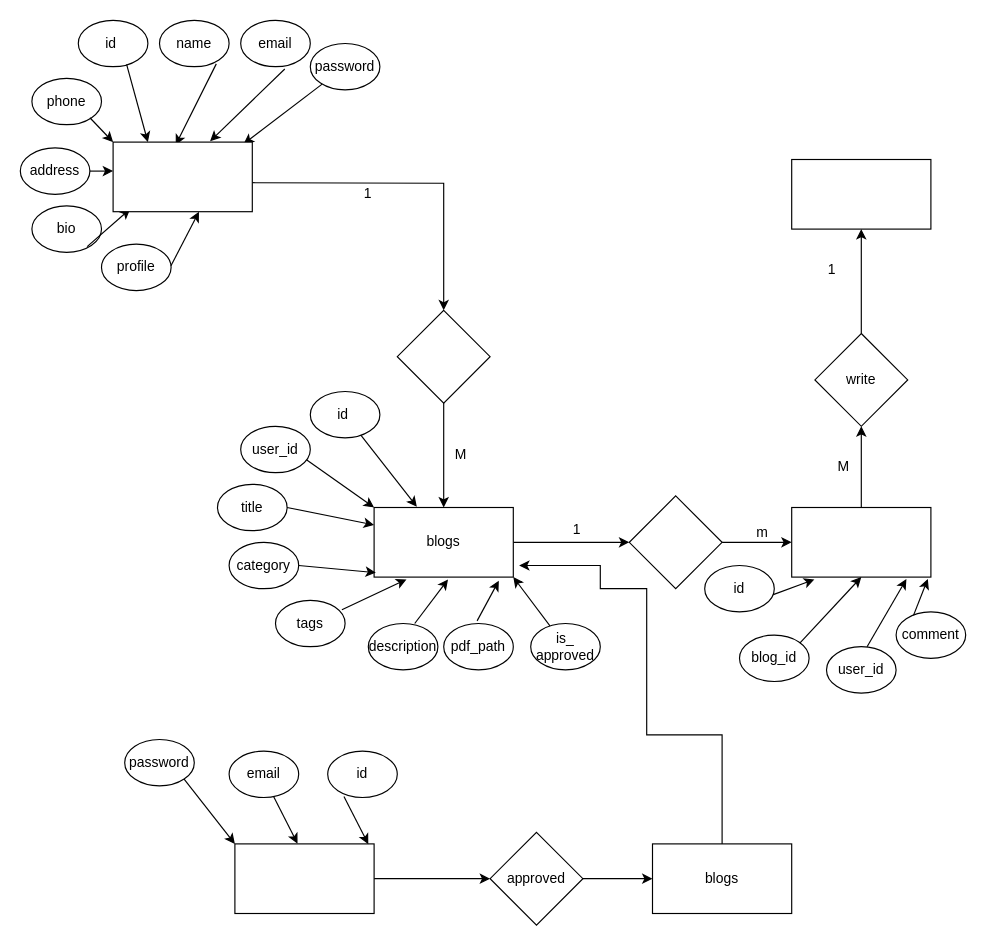
This 986x945 diagram has some shape labels left out. The shapes that lost their labels are listed below. From the top down, each one's centre as x and y in pixels, then its label:
At pixel 182 176: "User".
At pixel 861 193: "users".
At pixel 443 356: "writes".
At pixel 675 542: "receive".
At pixel 861 541: "Comments".
At pixel 304 878: "admin".
